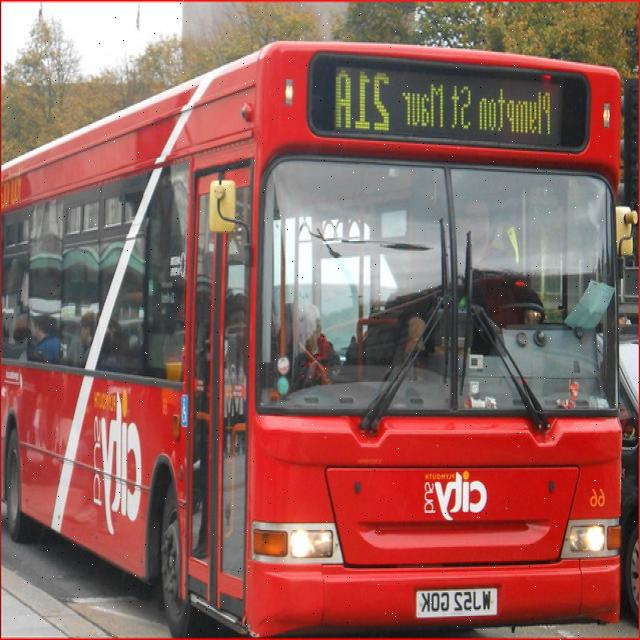Bus: (0, 41, 635, 631)
